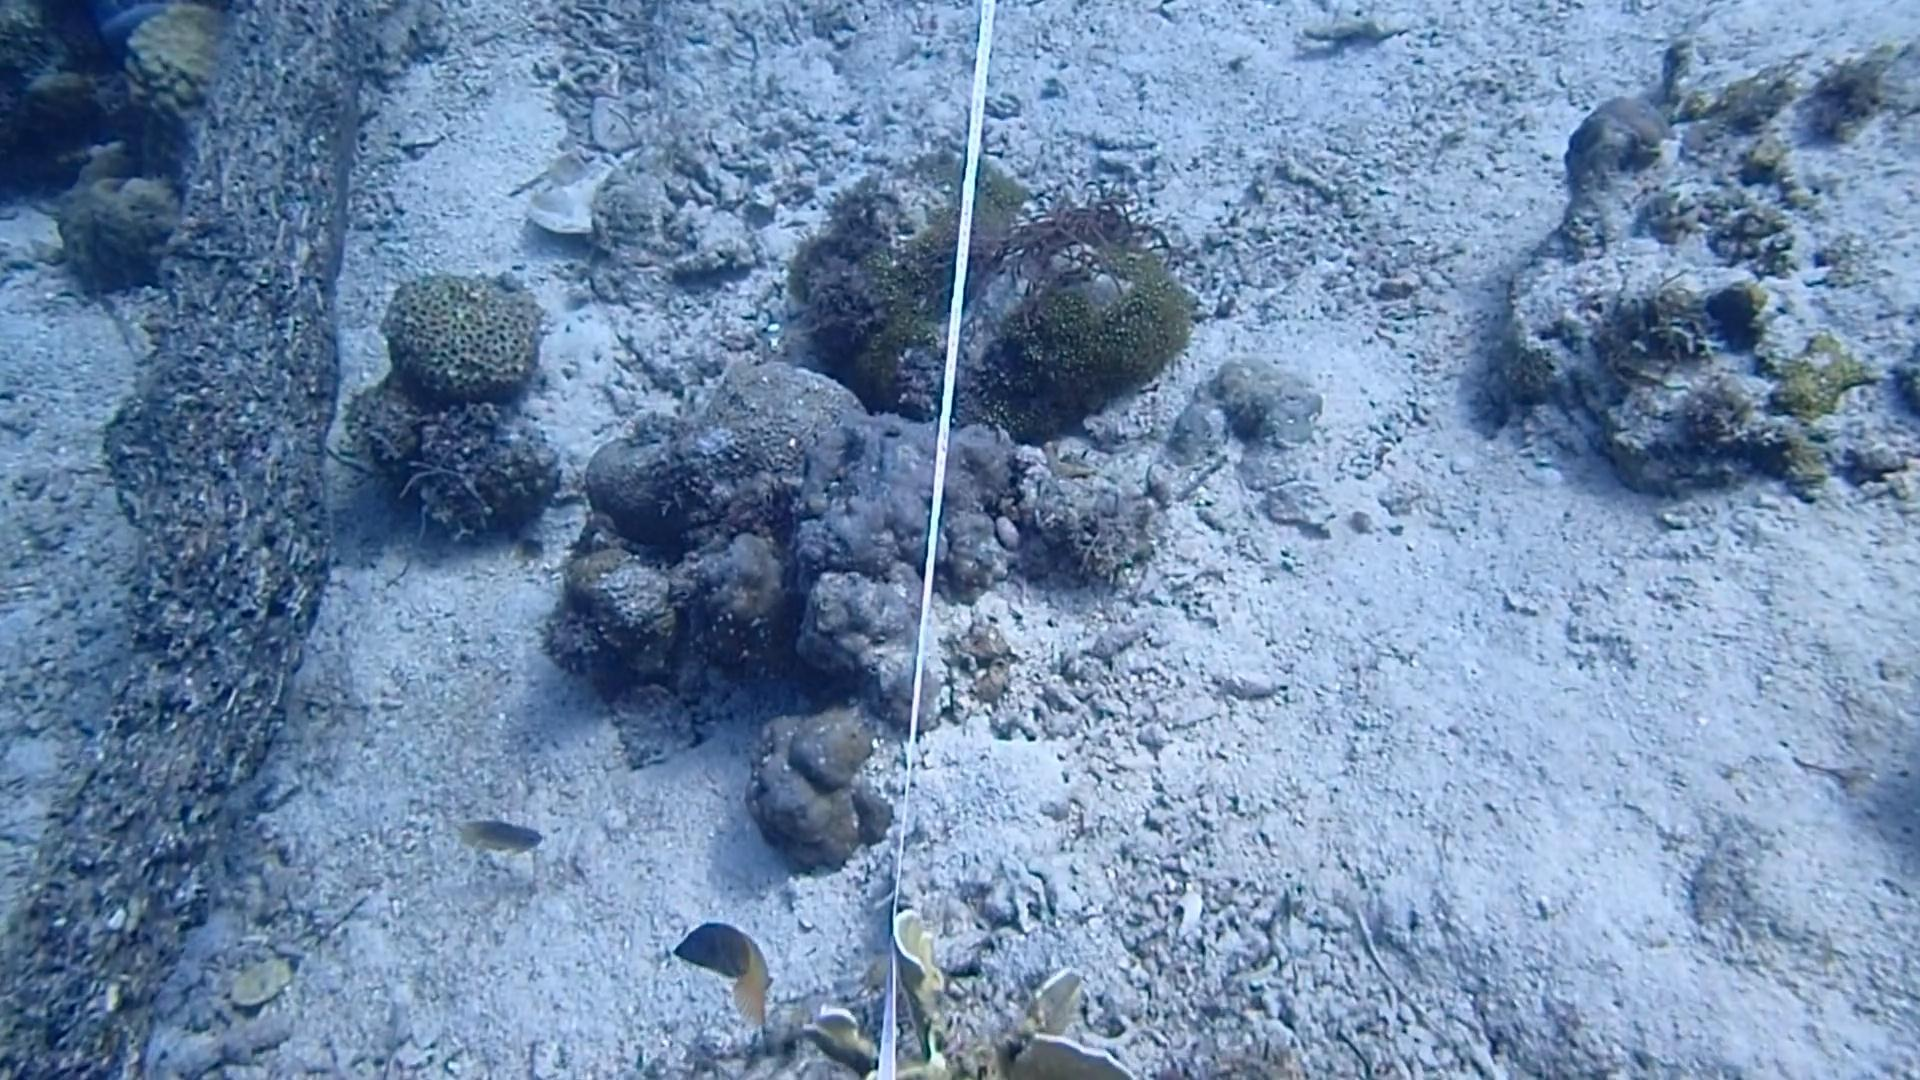Light Fish: (454, 804, 555, 872)
Yellow-Blue Fish: (671, 914, 790, 1036)
